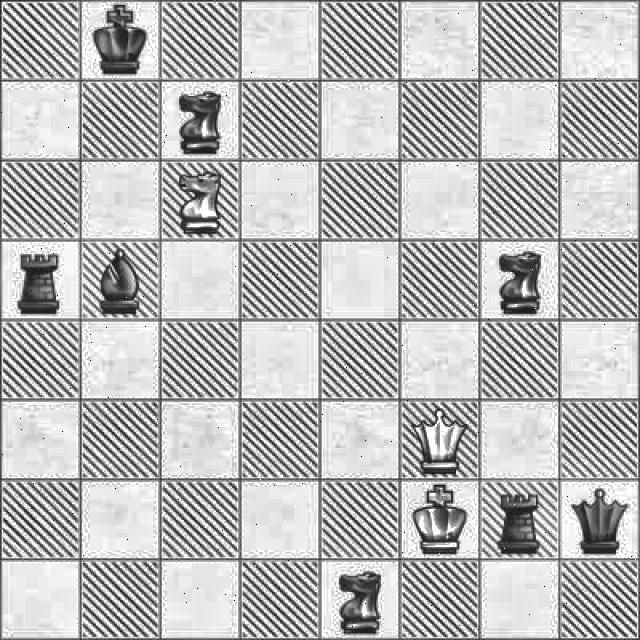Black Knight: (480, 241, 558, 321), (162, 84, 238, 156), (332, 567, 392, 637)
black bishop: (84, 244, 160, 314)
black king: (82, 1, 158, 77)
black queen: (566, 482, 637, 556)
black rook: (7, 244, 75, 318), (488, 487, 552, 558)
white king: (406, 481, 476, 559)
white queen: (408, 402, 476, 474)
whiteknight: (166, 169, 233, 235)
